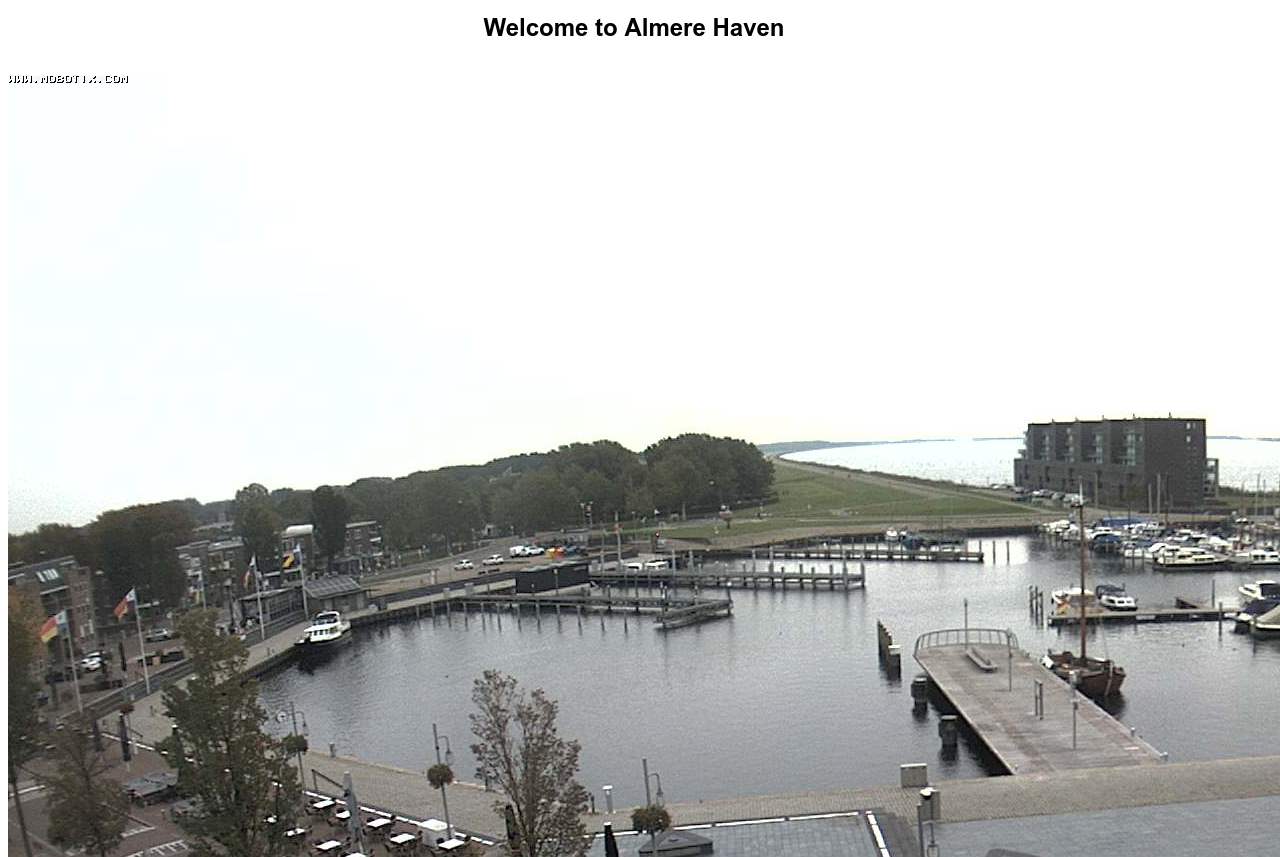maybe: (243, 553, 257, 586)
yes: (37, 610, 67, 642), (115, 591, 138, 619), (280, 547, 301, 566)
